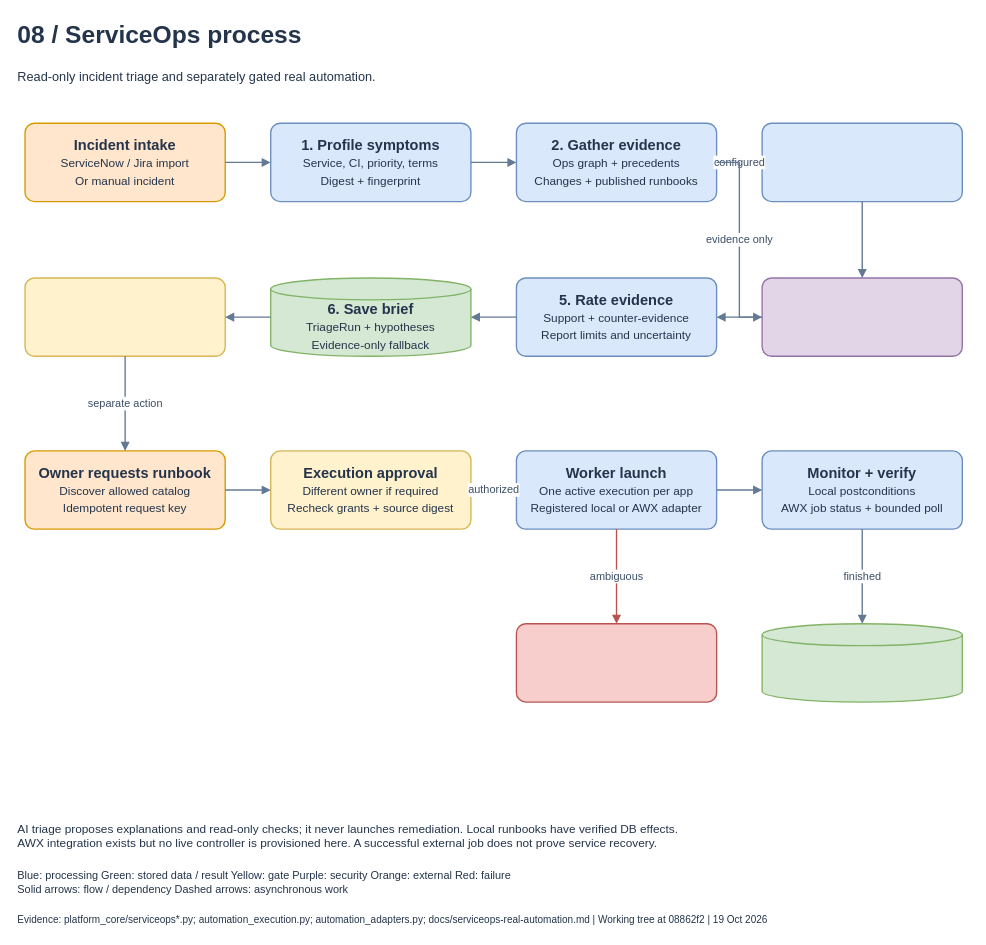
Image size: 986x945. Some labels were removed from this diagram. Each missing label, with the centre of its shape:
3. Optional AI triage At most three hypotheses Read-only checks only: the point at 862,162
4. Verify citations Exact quotes; source usable Digest and app scope: the point at 862,317
Execution receipt Status, timing, effects No secret-bearing stdout: the point at 862,662
Needs reconciliation Ambiguous external launch Never blindly retry POST: the point at 616,662
Responder verdict Accept / reject / partial Record confirmed cause: the point at 124,317
